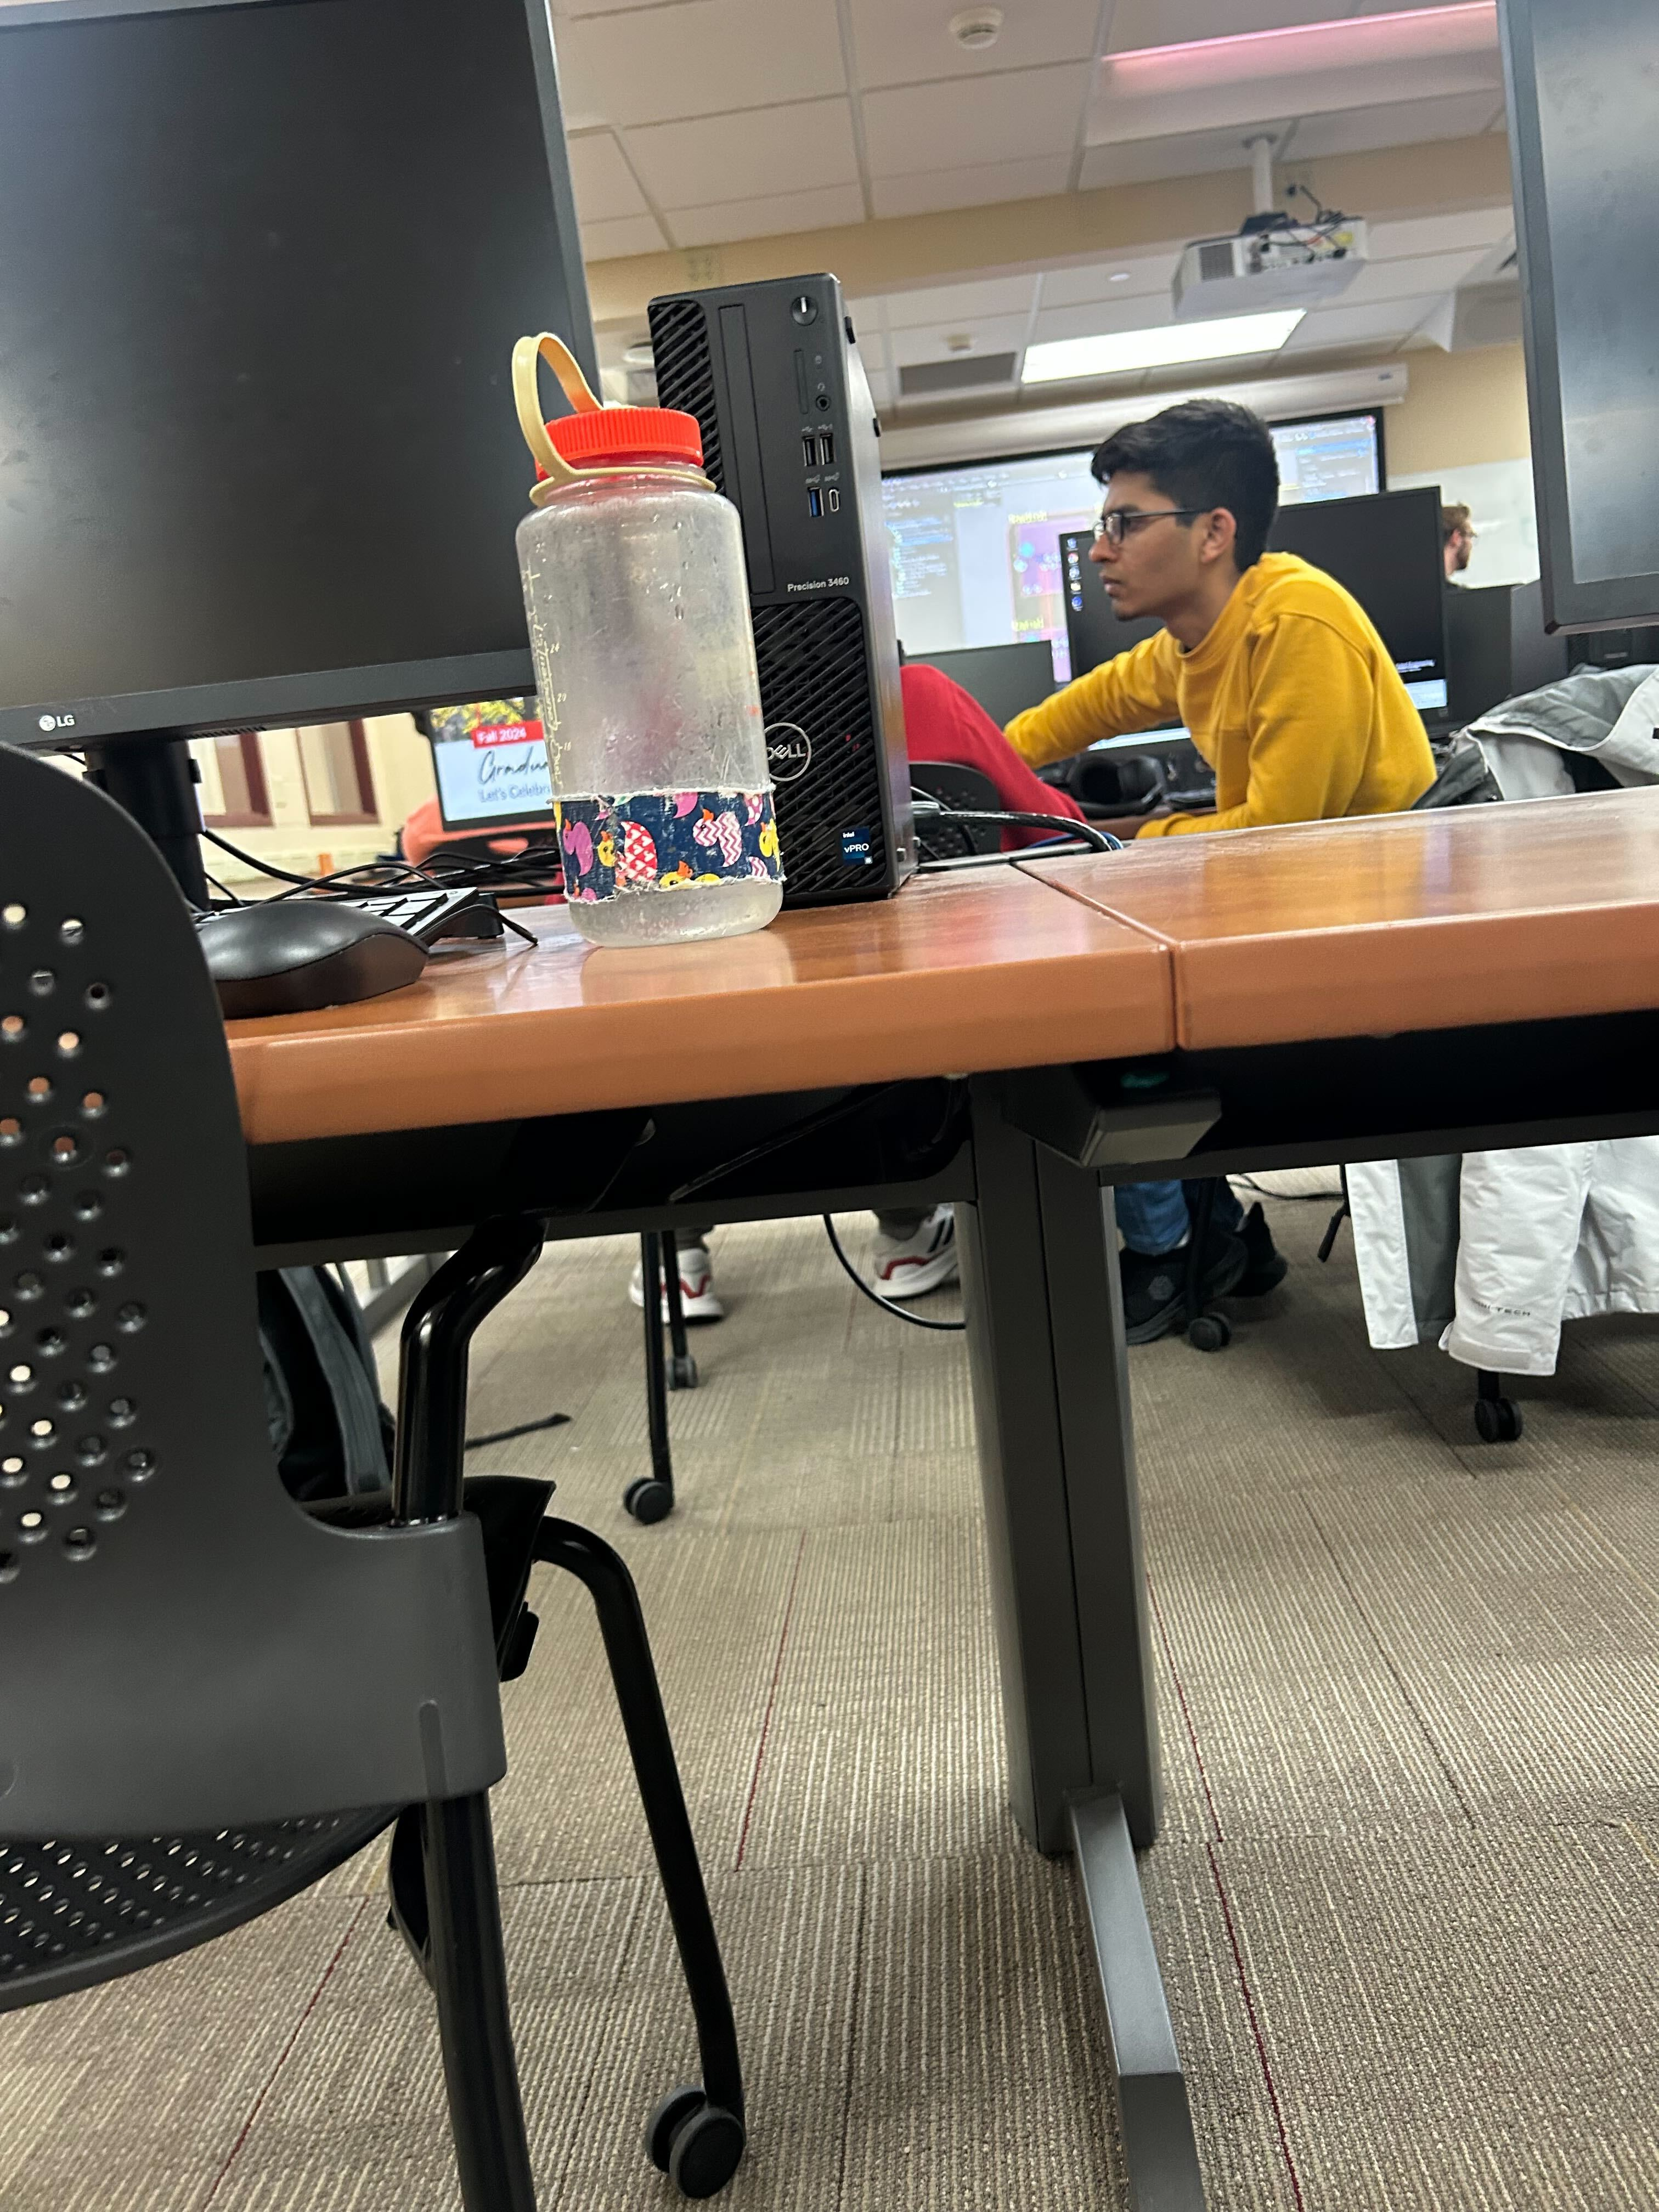bottle: (505, 319, 788, 949)
